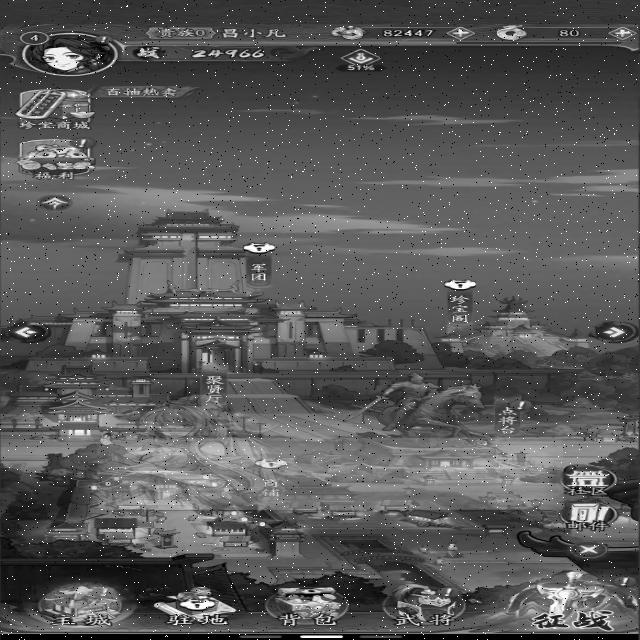hint-reddot: (61, 137, 99, 151), (432, 584, 464, 600), (609, 573, 640, 589), (89, 33, 116, 45)
navigation-bag: (256, 581, 351, 629)
navigation-community: (550, 464, 625, 498)
navigation-dianjiangtai: (489, 391, 532, 442)
navigation-fight: (486, 568, 640, 635)
navigation-hero: (376, 580, 473, 629)
navigation-juntuan-off: (237, 239, 282, 290)
navigation-juxianting: (197, 359, 232, 412)
navigation-mail: (553, 500, 623, 533)
navigation-main: (30, 582, 128, 630)
navigation-role: (10, 27, 136, 80)
navigation-station-off: (154, 586, 238, 628)
navigation-treasureMall: (11, 84, 99, 132)
navigation-welfare: (15, 136, 101, 183)
navigation-zhenbaoge-off: (440, 276, 476, 328)
operation-close: (566, 541, 609, 560)
